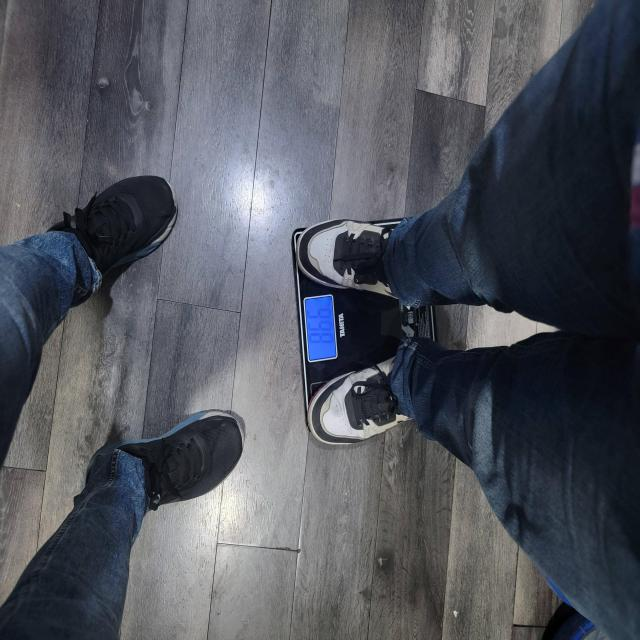ws: (292, 224, 404, 445)
